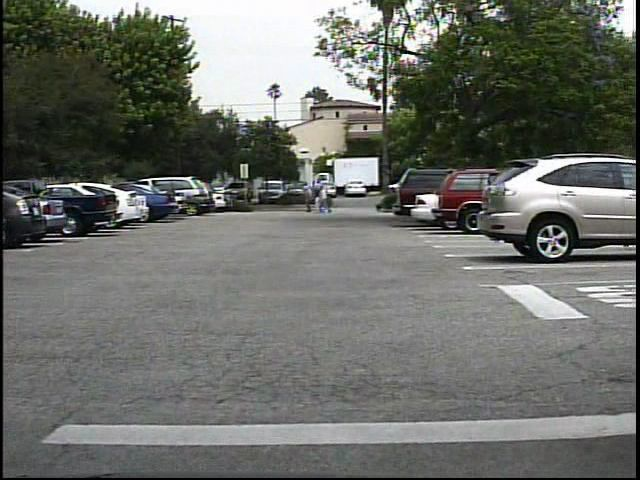person: (317, 185, 334, 215), (301, 185, 316, 215), (313, 186, 327, 216)
